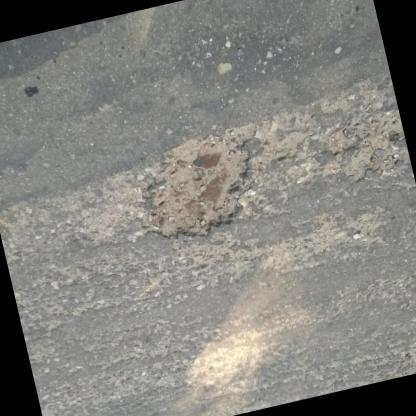pothole: (122, 121, 274, 254), (318, 108, 413, 190)
